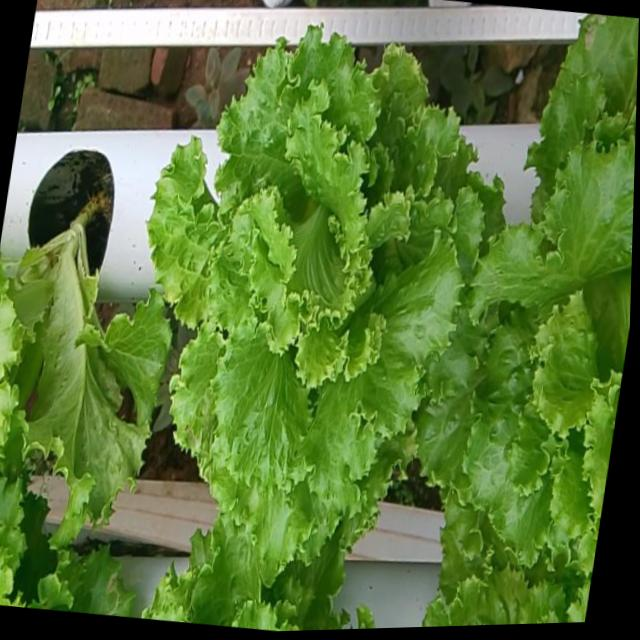Mature: (144, 8, 483, 550), (414, 114, 636, 552)
